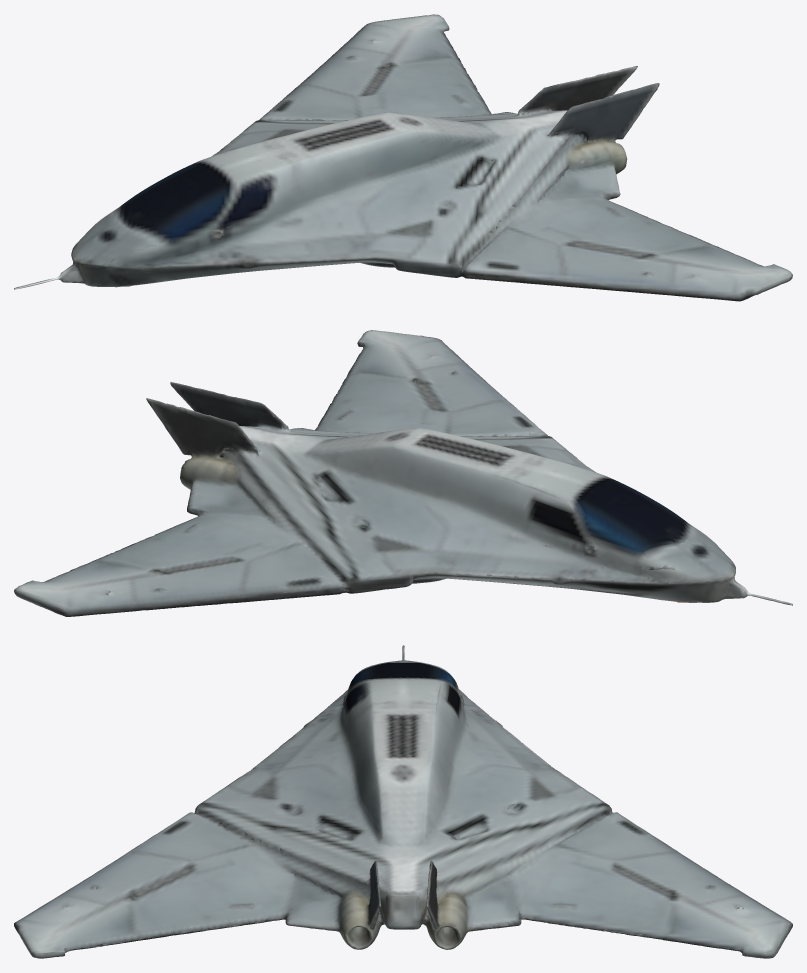
Rendered from une_drone.glb.
3 views of the same model, one above another, from view 1: azimuth 30°, elevation 25°; view 2: azimuth 150°, elevation 25°; view 3: azimuth 270°, elevation 25° (orthographic). The views are drawn at different scales.
Parts seen in each view (by area): view 1: Mesh1.0; view 2: Mesh1.0; view 3: Mesh1.0.
Part boxes in pixels (x1,y1,x2,y2): Mesh1.0: [14, 14, 792, 301]; Mesh1.0: [14, 330, 792, 616]; Mesh1.0: [14, 645, 792, 958].
Size of the model in its own units: 1.87 by 0.2743 by 1.91.
1 material, 1 textured.
